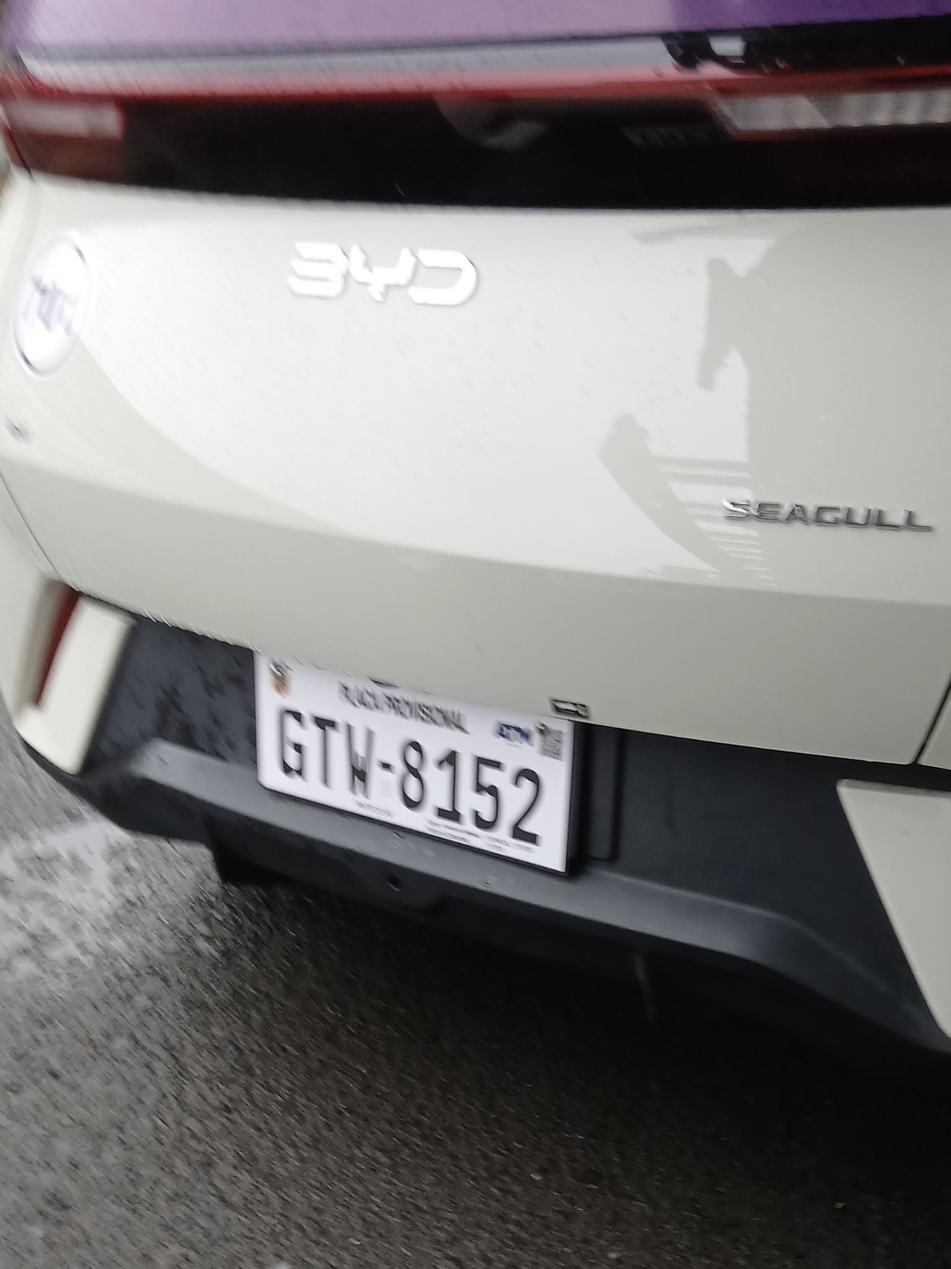license_plate: (255, 655, 584, 875)
